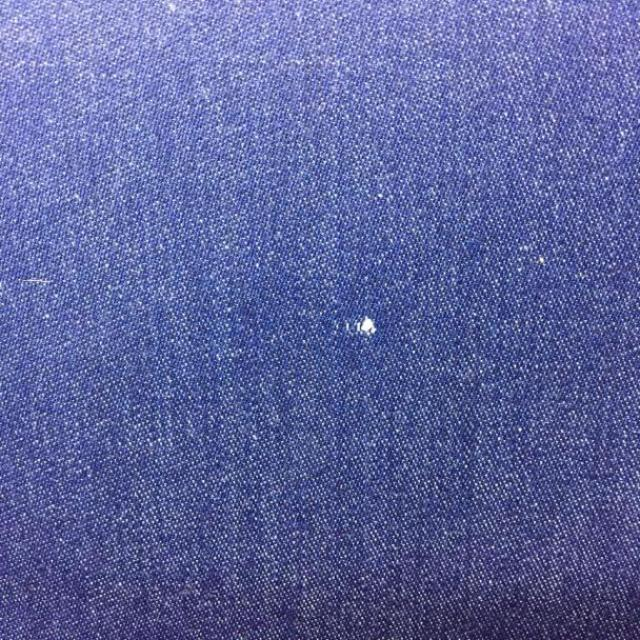Knot: (346, 317, 377, 337)
